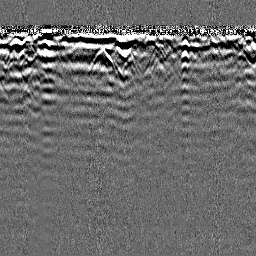cavity: (119, 54, 142, 77)
